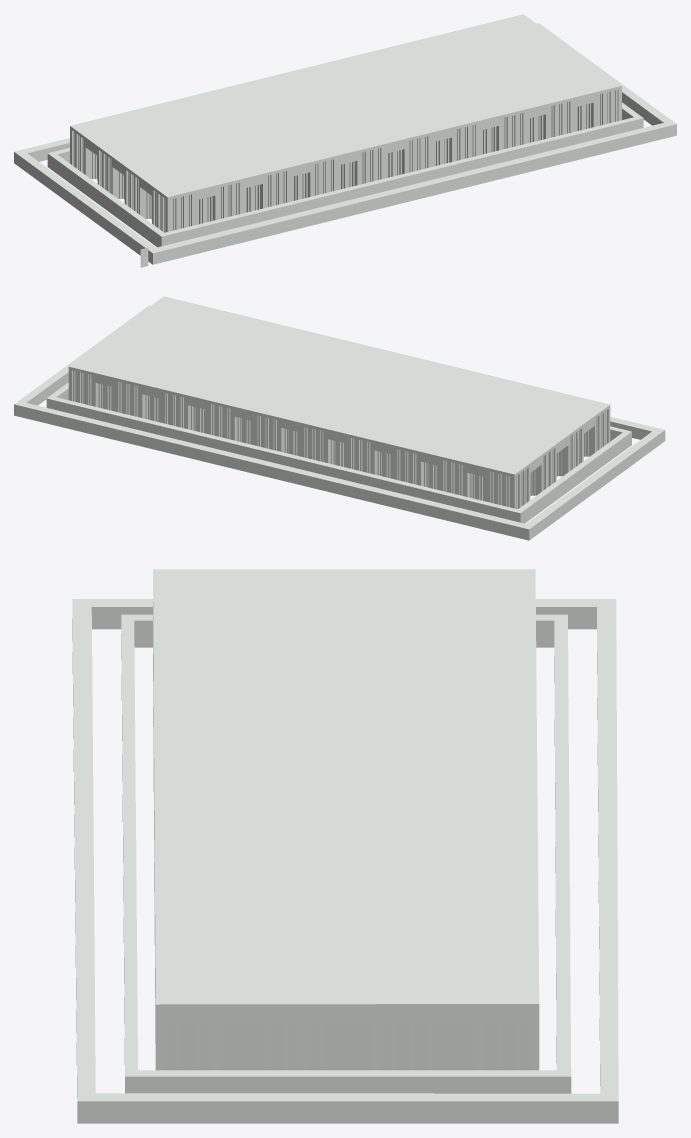
3 views of the same model, one above another, from view 1: azimuth 30°, elevation 25°; view 2: azimuth 150°, elevation 25°; view 3: azimuth 270°, elevation 25° (orthographic). The views are drawn at different scales.
Parts seen in each view (by area): view 1: Mesh1 Model, Mesh3 Model, Mesh2 Model; view 2: Mesh1 Model, Mesh3 Model, Mesh2 Model; view 3: Mesh1 Model, Mesh3 Model, Mesh2 Model.
Part boxes in pixels (bbox=[...]): Mesh1 Model: bbox=[70, 14, 621, 232]; Mesh3 Model: bbox=[14, 23, 676, 264]; Mesh2 Model: bbox=[47, 102, 643, 247]; Mesh1 Model: bbox=[68, 296, 610, 509]; Mesh3 Model: bbox=[14, 305, 665, 540]; Mesh2 Model: bbox=[46, 382, 631, 523]; Mesh1 Model: bbox=[153, 569, 539, 1070]; Mesh3 Model: bbox=[72, 599, 618, 1123]; Mesh2 Model: bbox=[121, 614, 571, 1093].
Bounding box in the file's own units: 49.03 × 3.82 × 22.04.
Materials: 2 (2 with a texture image).
